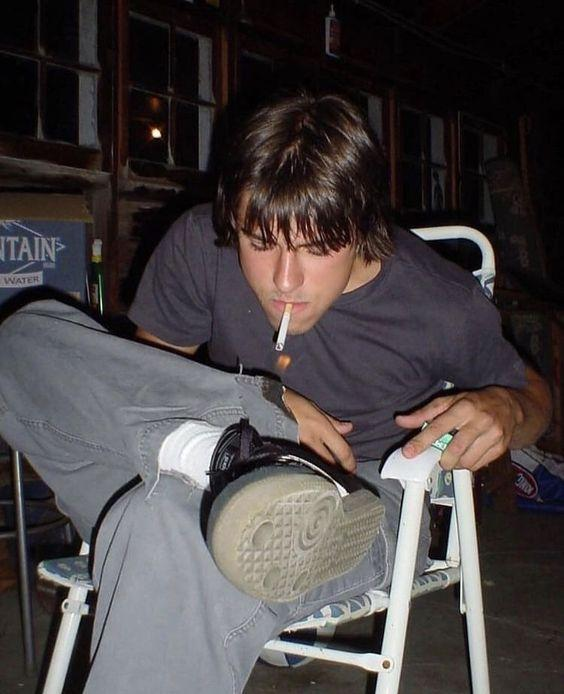cigarette: (274, 302, 293, 351)
